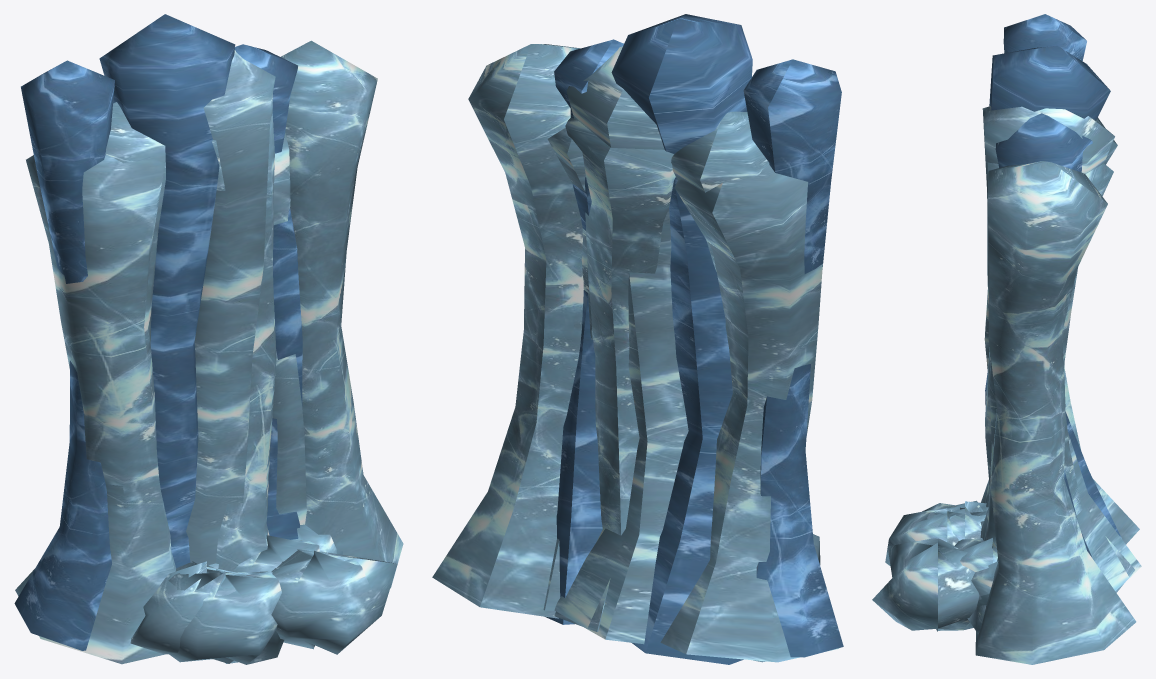
The model's file is cw_ice_column_a.glb.
3 renders of one model, left to right at view 1: azimuth 30°, elevation 25°; view 2: azimuth 150°, elevation 25°; view 3: azimuth 270°, elevation 25°, orthographic. The views are drawn at different scales.
Visible parts, largest first — view 1: cw_ice_column_a; view 2: cw_ice_column_a; view 3: cw_ice_column_a.
Part boxes in pixels (x1,y1,x2,y2): cw_ice_column_a: [14, 14, 403, 664]; cw_ice_column_a: [432, 14, 843, 664]; cw_ice_column_a: [872, 14, 1141, 664].
Bounding box in the file's own units: 1.56 × 2.44 × 1.08.
Materials: 1 (1 with a texture image).
